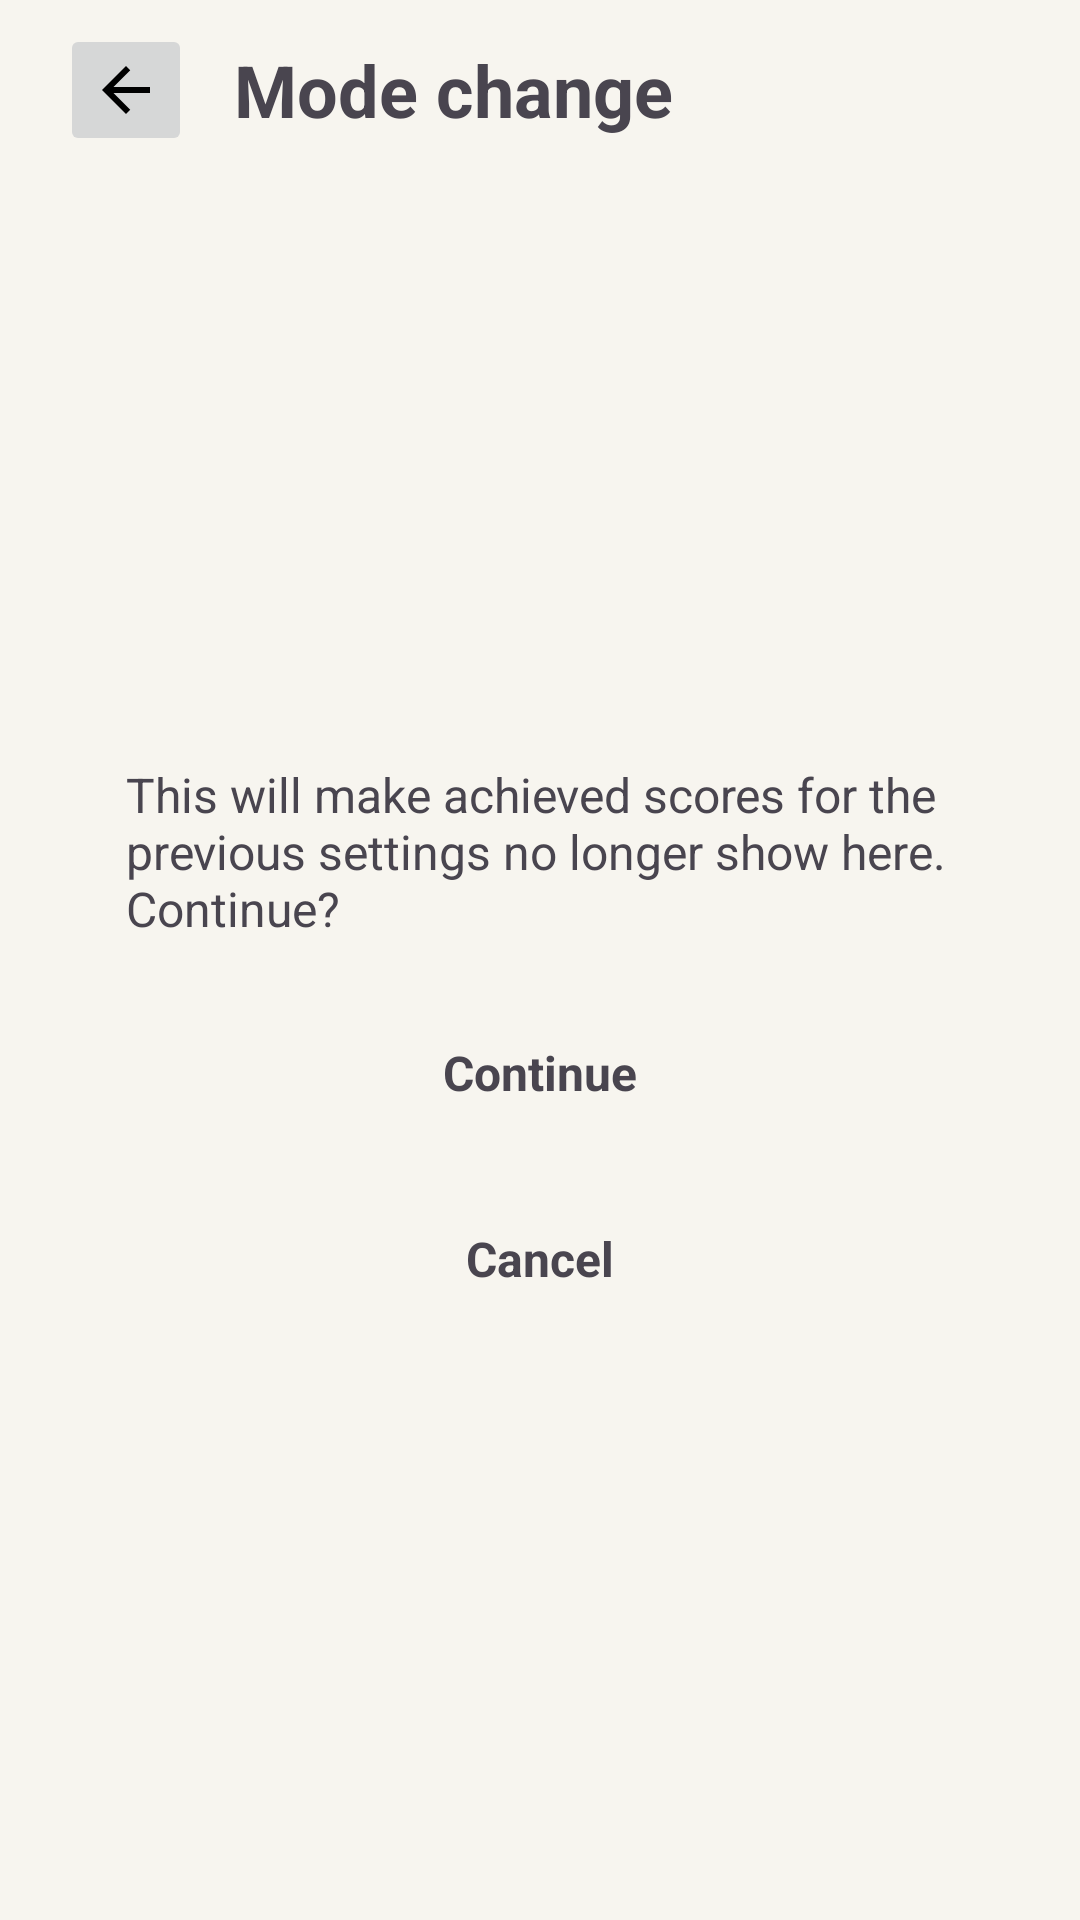

Icon bounding boxes for this 1080px×1920px phone screenshot, format (x1, y1, x2, y2):
arrow back: (72, 42, 180, 138)
